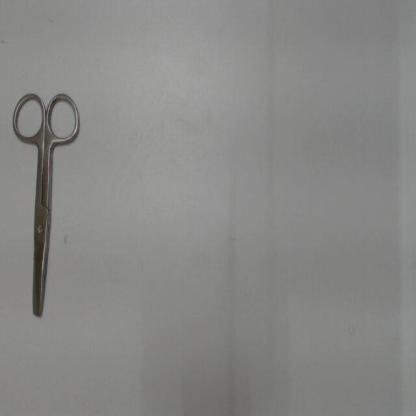Dressing Scissors: (5, 80, 89, 335)
